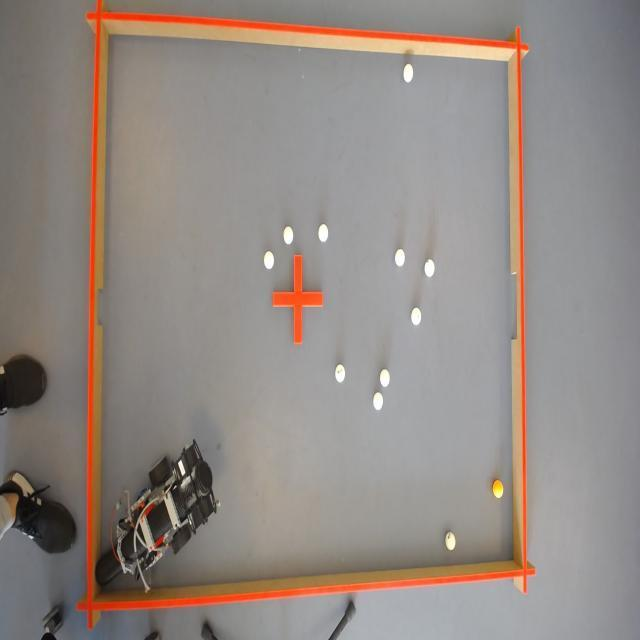orange: (494, 479, 506, 498)
robot: (99, 436, 214, 602)
white: (444, 533, 457, 552), (282, 224, 294, 244), (422, 258, 434, 278), (263, 251, 275, 271), (316, 222, 328, 242), (395, 248, 407, 268), (402, 62, 414, 82), (334, 363, 346, 382), (379, 369, 391, 387), (411, 306, 422, 325), (372, 392, 382, 412)
